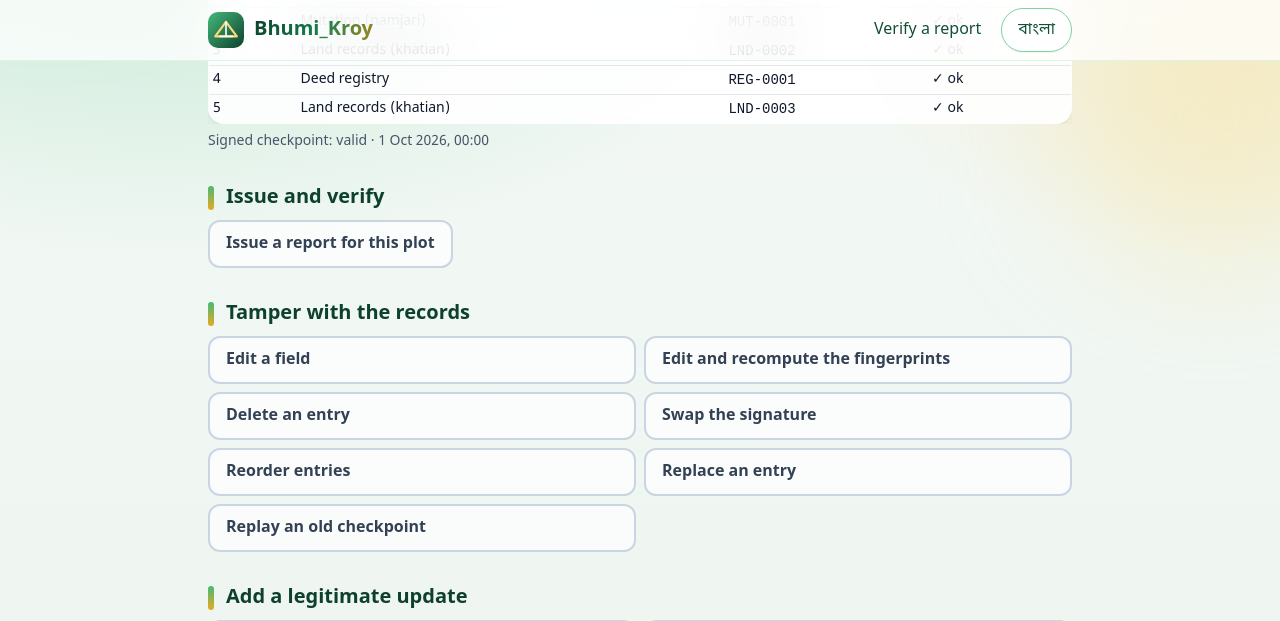
Test: Demo console (mock mode) › tampering breaks the ledger, reset heals it, and unbuilt tamper kinds say so
(page scrolled)
Click the button "Edit a field".
click(268, 360)  # box [208,336,636,384]
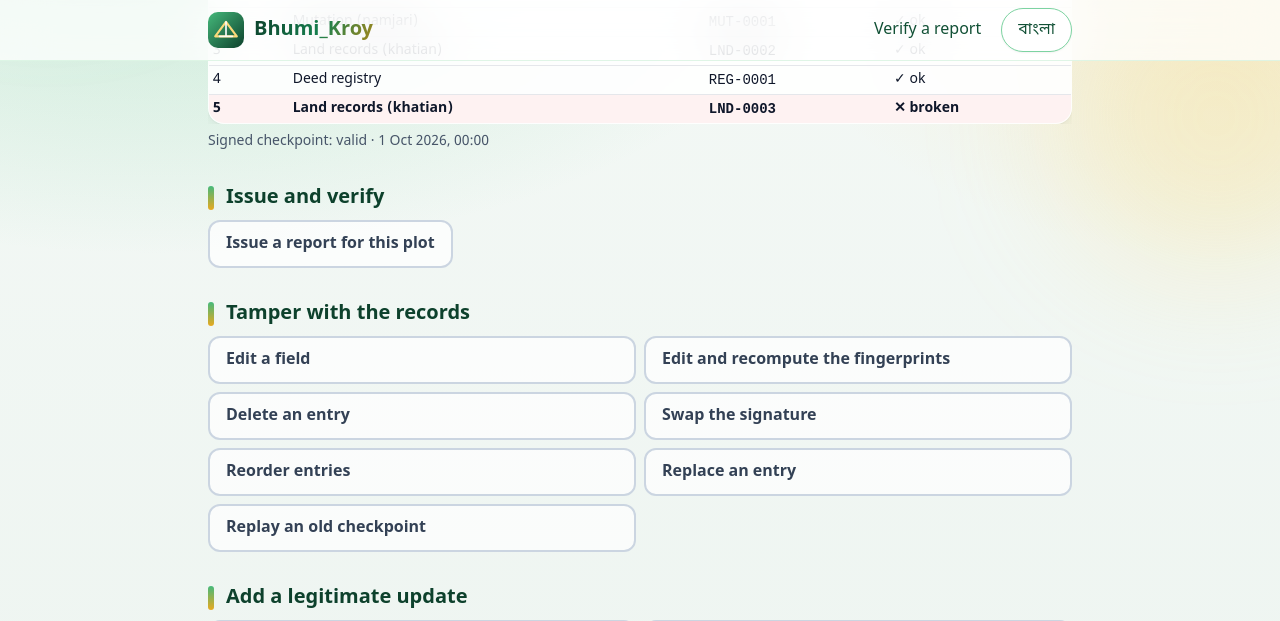
Click the button "Replay an old checkpoint".
click(422, 528)  # box [208,504,636,552]
(page scrolled)
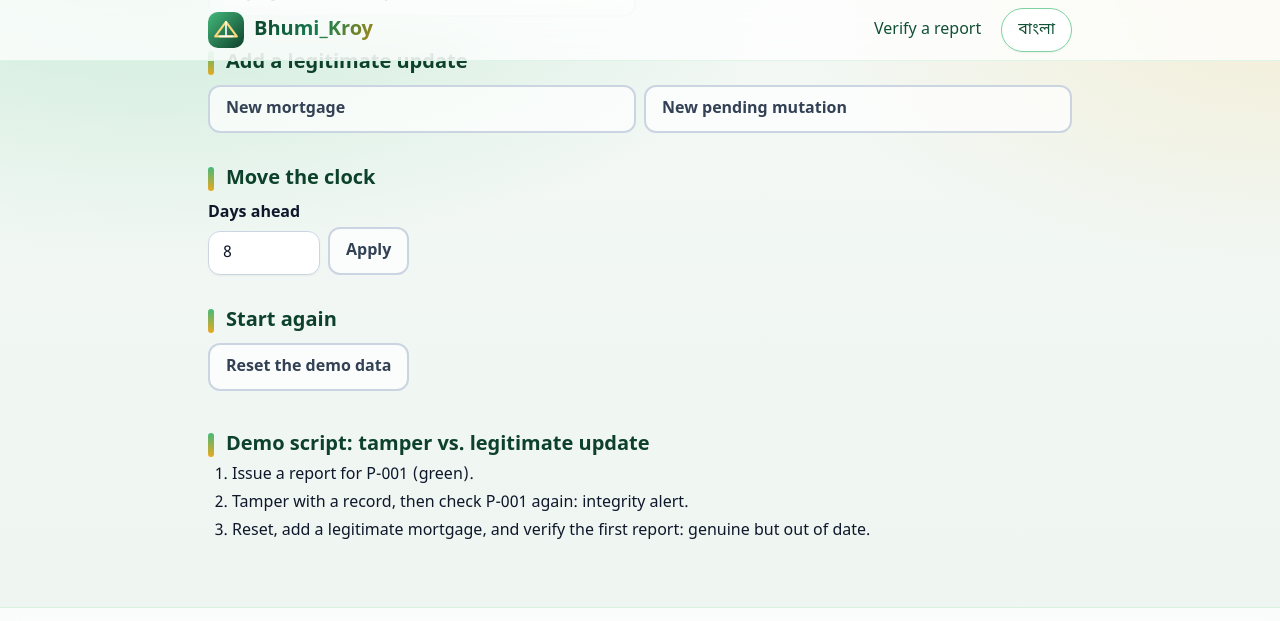
Click the button "Reset the demo data".
click(309, 367)  # box [208,343,409,391]
(page scrolled)
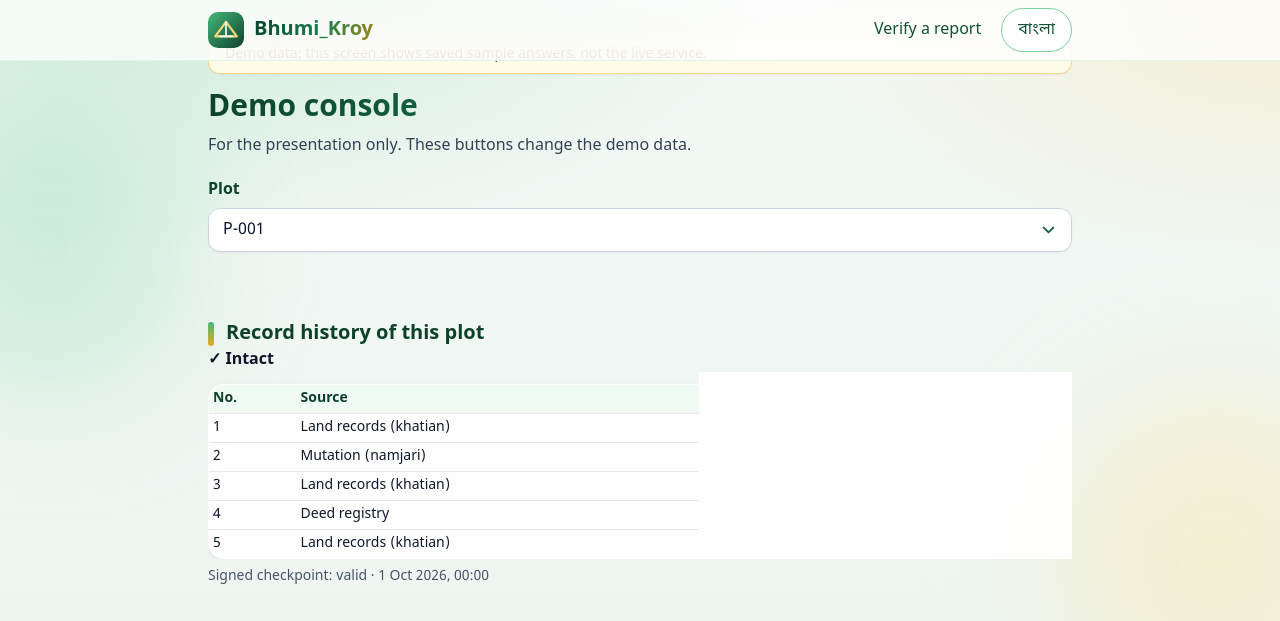
Expected: the element with test id "ledger-status" shows "Intact", [225,349,274,371]
